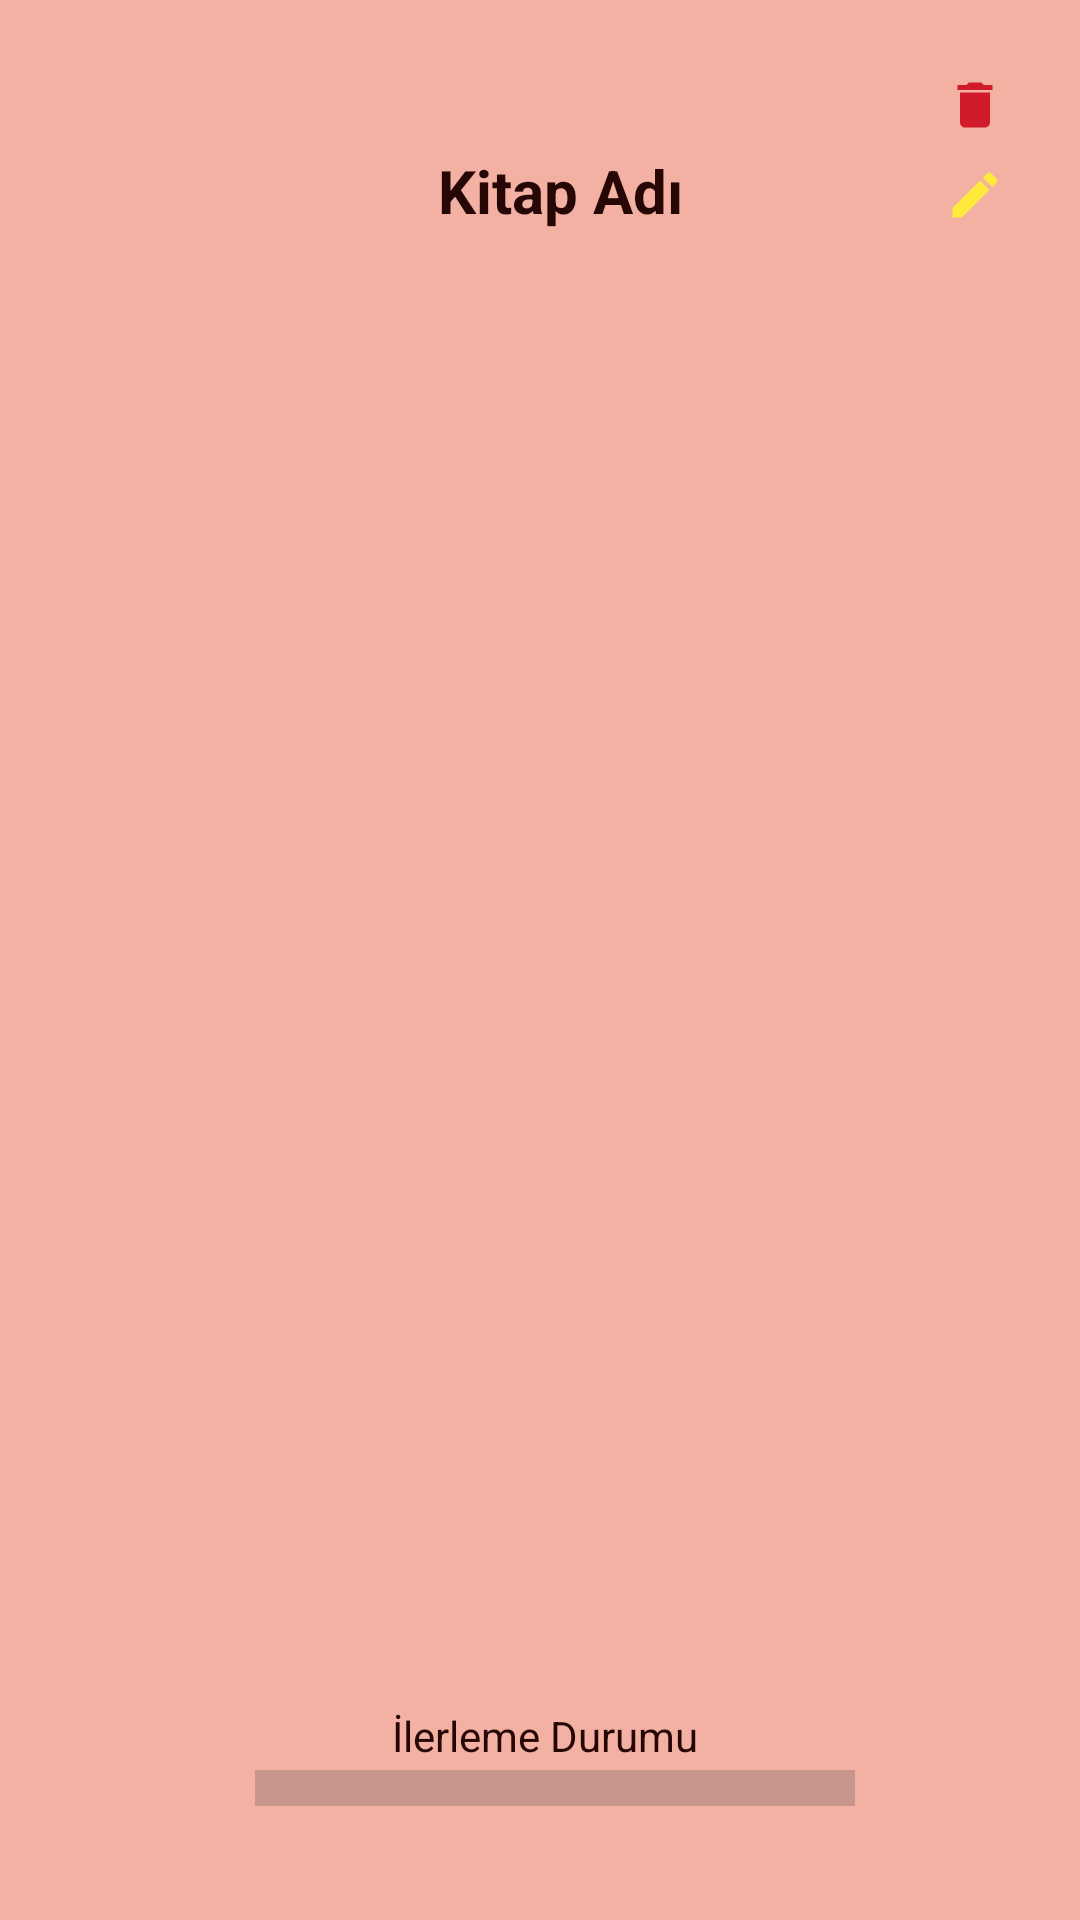

Named icons in this screenshot (1080px x 1920px) and their centers, [x,y]:
delete: [975,105]
edit: [975,195]
